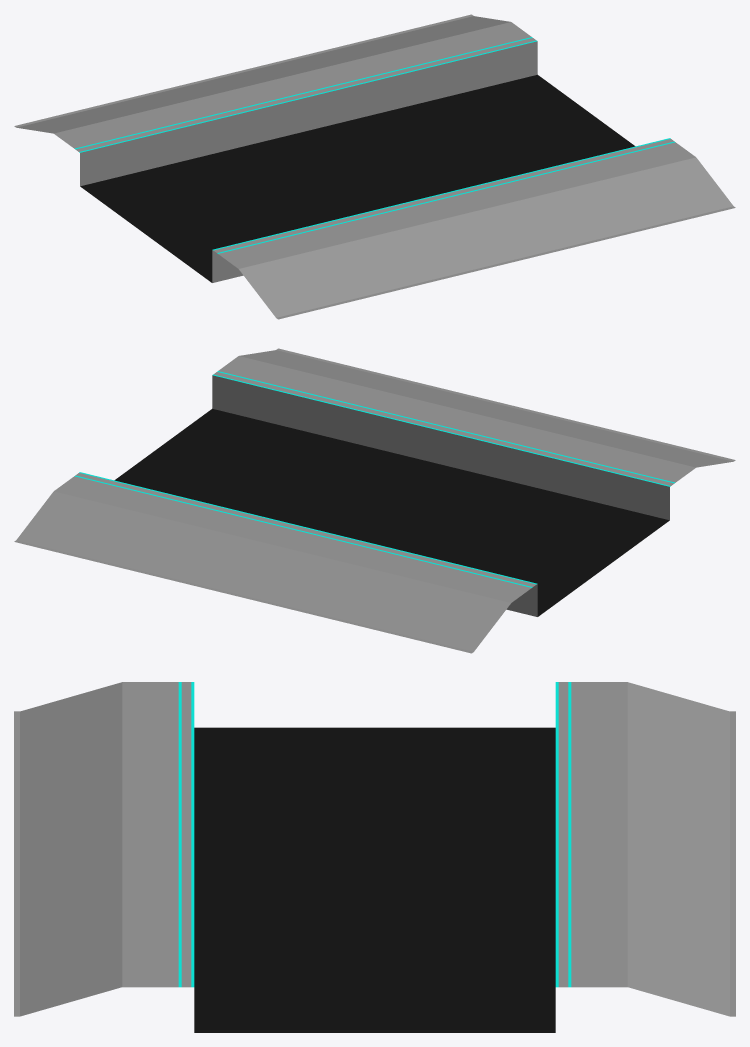
File: pressure_plate_base_heavy_straight_01.FBX
3 renders of one model, top to bottom at view 1: azimuth 30°, elevation 25°; view 2: azimuth 150°, elevation 25°; view 3: azimuth 270°, elevation 25°, orthographic. The views are drawn at different scales.
Visible parts, largest first — view 1: pressure_plate_base_heavy_straight_01; view 2: pressure_plate_base_heavy_straight_01; view 3: pressure_plate_base_heavy_straight_01.
Part boxes in pixels (<box>): pressure_plate_base_heavy_straight_01: <box>14,14,735,319</box>; pressure_plate_base_heavy_straight_01: <box>14,348,735,653</box>; pressure_plate_base_heavy_straight_01: <box>14,682,735,1032</box>.
Size of the model in its own units: 400 by 27.96 by 400.
